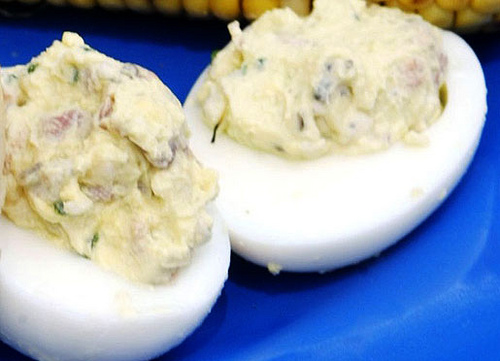egg: (176, 0, 489, 274), (0, 31, 232, 360)
